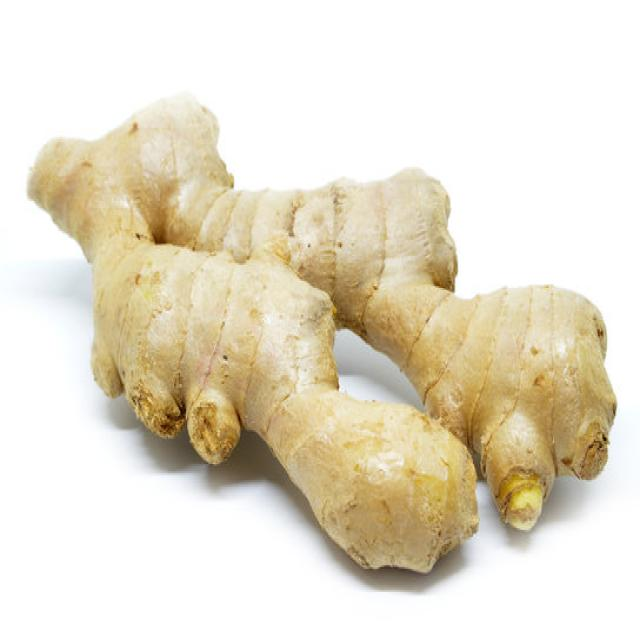Ginger: (26, 89, 616, 574)
